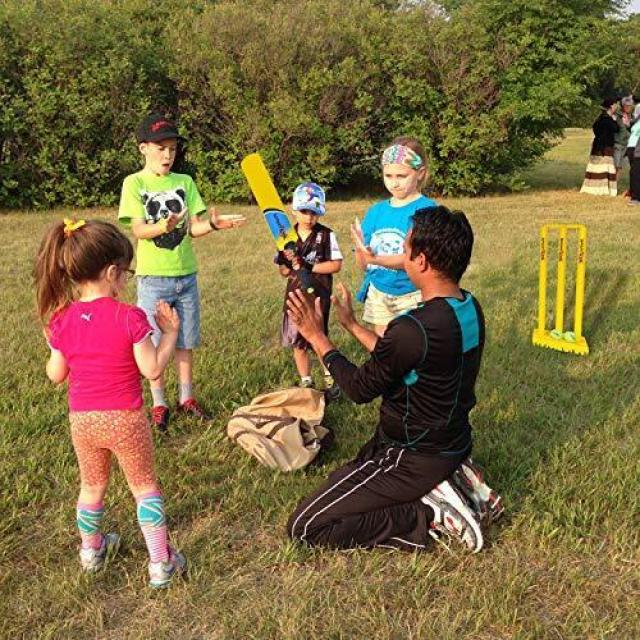stump: (533, 220, 592, 352)
